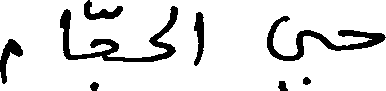ا: (190, 9, 203, 66), (59, 6, 70, 60)
ج: (89, 0, 117, 90)
ح: (337, 27, 384, 50), (139, 39, 176, 60)
ل: (148, 3, 177, 40)
م: (0, 37, 22, 85)
ي: (264, 14, 311, 90)
